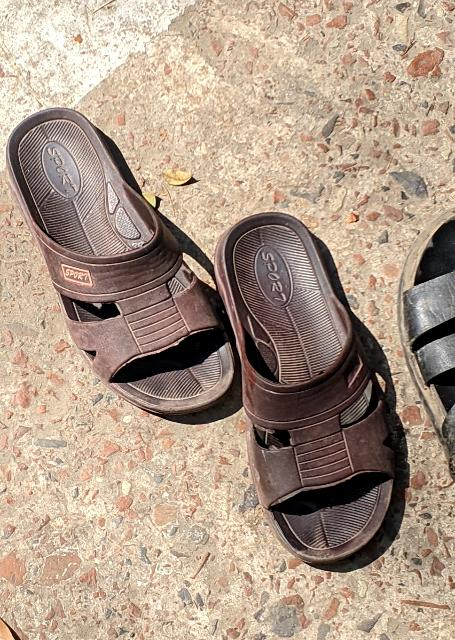sandal: (0, 94, 265, 456), (196, 200, 434, 579)
